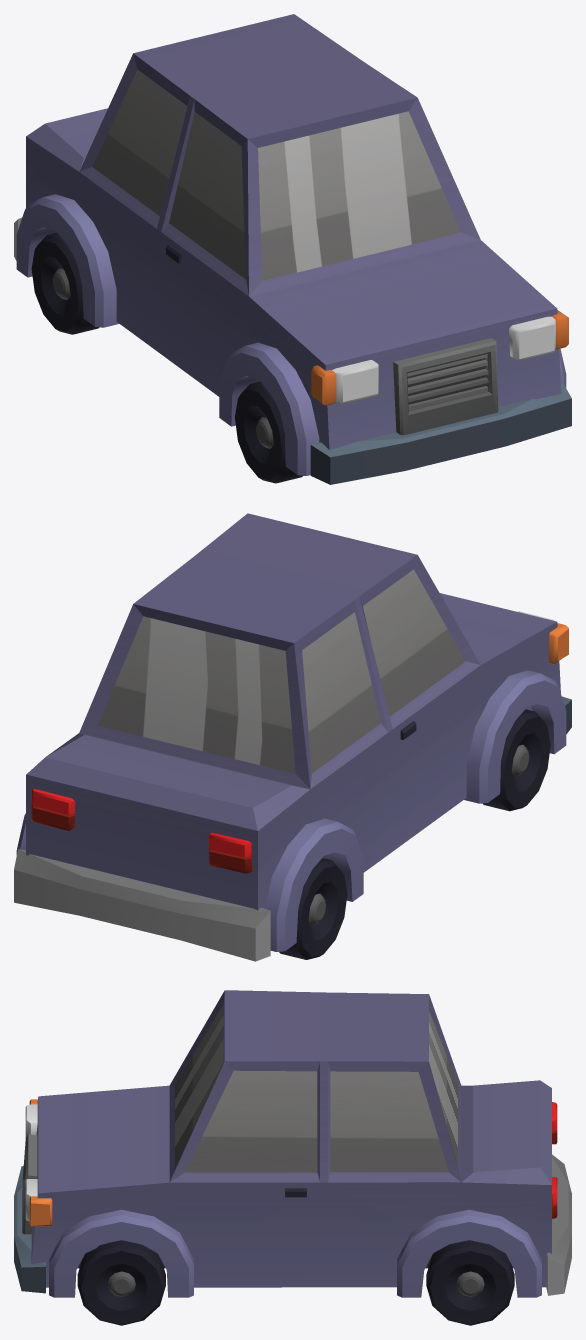
Rendered from Car_2_10.glb.
3 views of the same model, one above another, from view 1: azimuth 30°, elevation 25°; view 2: azimuth 150°, elevation 25°; view 3: azimuth 270°, elevation 25° (orthographic). The views are drawn at different scales.
Visible parts, largest first — view 1: Car_2_10, W_BR, W_FR; view 2: Car_2_10, W_FR, W_BR; view 3: Car_2_10, W_BL, W_FL.
Part boxes in pixels (bbox=[...]): Car_2_10: bbox=[14, 14, 571, 484]; W_BR: bbox=[31, 232, 99, 334]; W_FR: bbox=[235, 381, 302, 483]; Car_2_10: bbox=[14, 513, 571, 961]; W_FR: bbox=[482, 709, 550, 811]; W_BR: bbox=[279, 858, 347, 959]; Car_2_10: bbox=[14, 990, 571, 1297]; W_BL: bbox=[426, 1240, 514, 1325]; W_FL: bbox=[77, 1240, 165, 1325].
Bounding box in the file's own units: 1.09 × 1.11 × 2.28.
5 materials, 5 textured.
